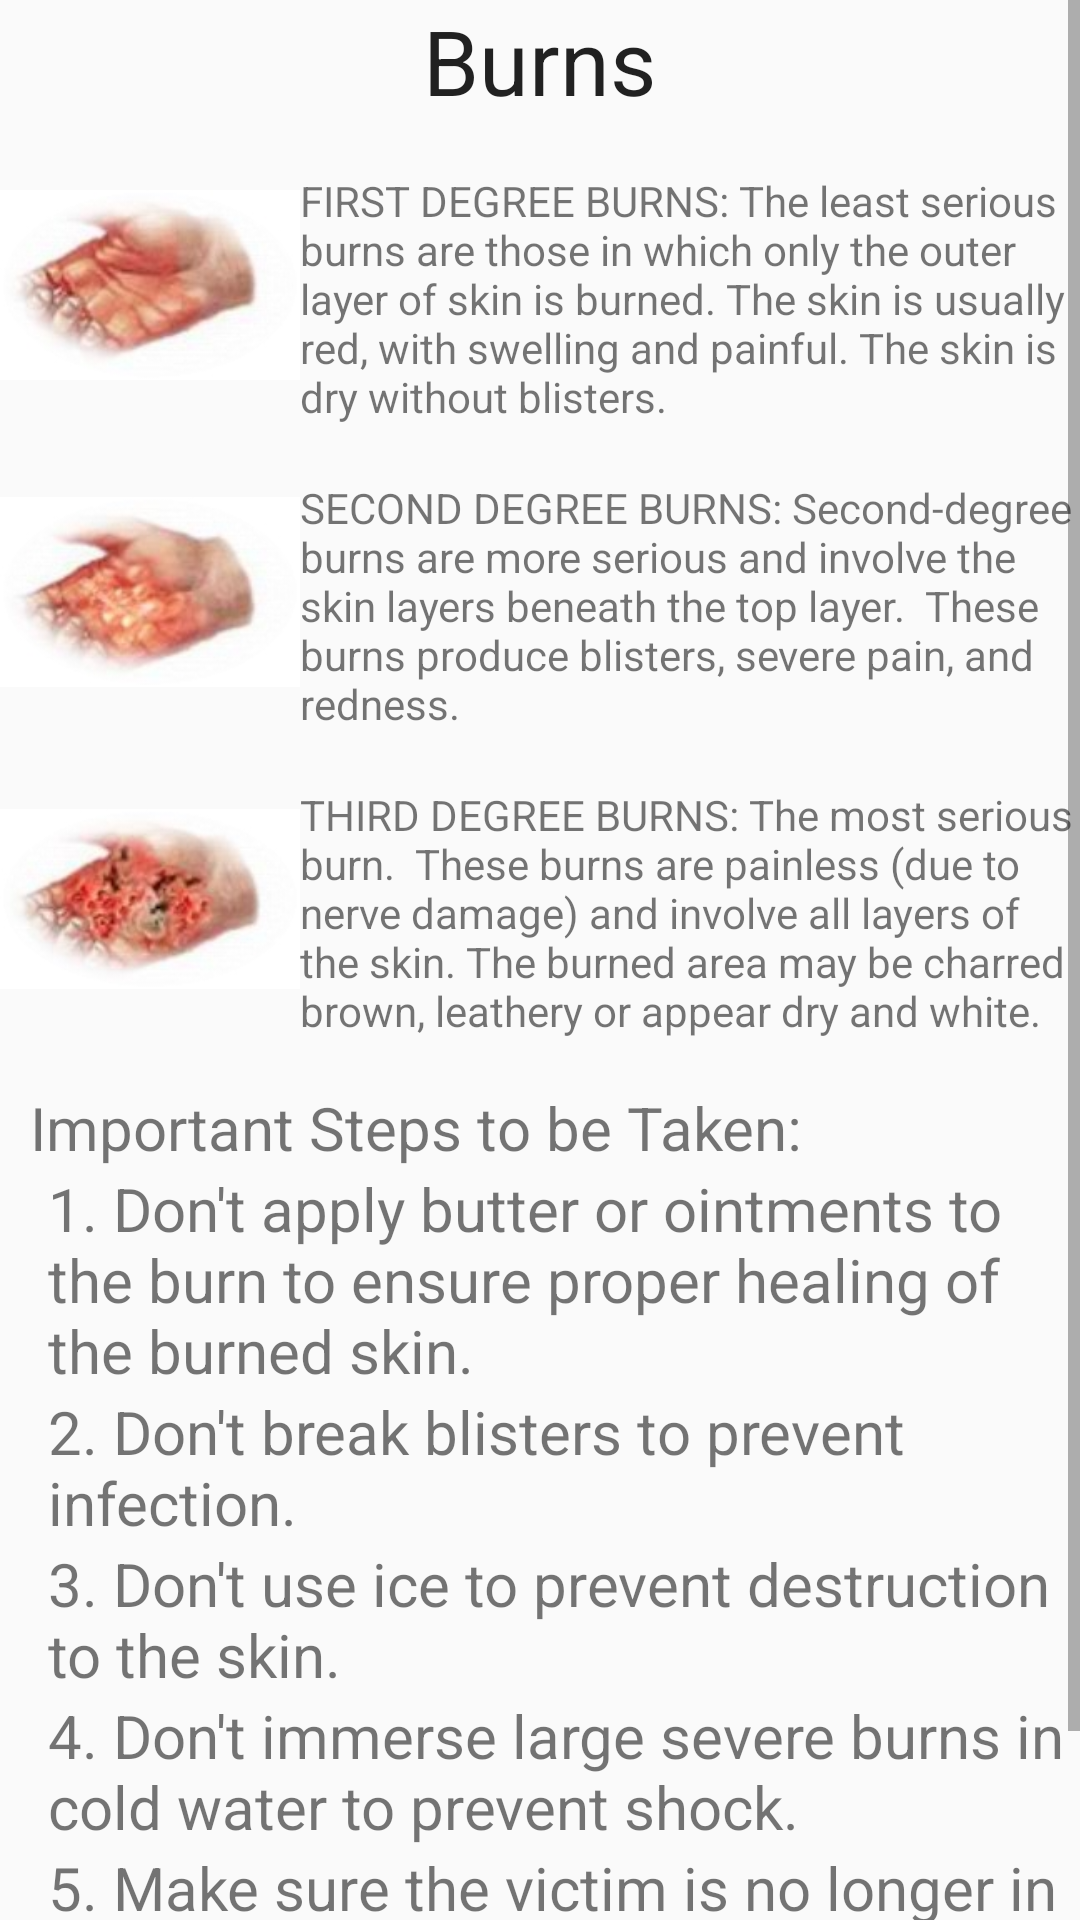

Locate icon controls on the screen. Image size 1080px x 1920px, boxes as (x1, y1, x2, y2).
fburn: (22, 212, 256, 355), (25, 520, 255, 667), (24, 831, 260, 969)
